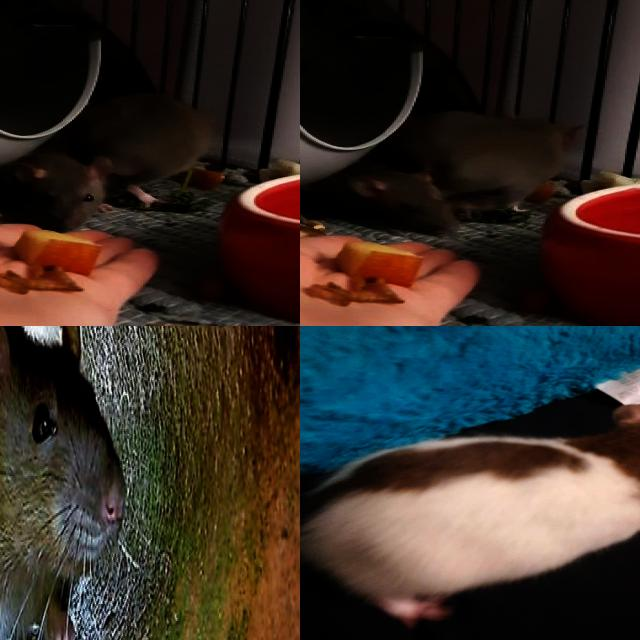rat: (300, 401, 640, 628), (0, 326, 143, 640), (306, 159, 465, 236), (6, 152, 116, 232)
